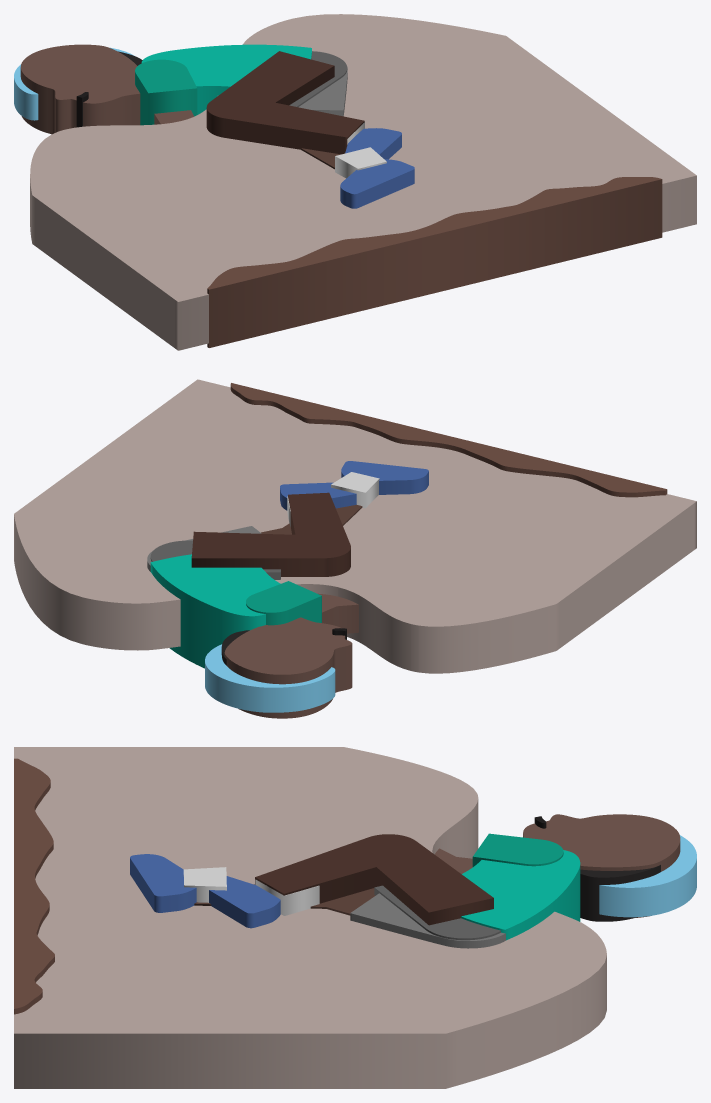
File: emoji_u1f6b5_1f3ff_200d_2642.glb
3 views of the same model, one above another, from view 1: azimuth 30°, elevation 25°; view 2: azimuth 150°, elevation 25°; view 3: azimuth 270°, elevation 25° (orthographic). The views are drawn at different scales.
Parts seen in each view (by area): view 1: emoji_u1f6b5_1f3ff_200d_2642; view 2: emoji_u1f6b5_1f3ff_200d_2642; view 3: emoji_u1f6b5_1f3ff_200d_2642.
Boxes of the visible parts, x1,y1,x2,y2 form: emoji_u1f6b5_1f3ff_200d_2642: [14, 14, 696, 350]; emoji_u1f6b5_1f3ff_200d_2642: [14, 379, 696, 718]; emoji_u1f6b5_1f3ff_200d_2642: [14, 747, 696, 1088].
Size of the model in its own units: 0.0334 by 0.0054 by 0.0336.
